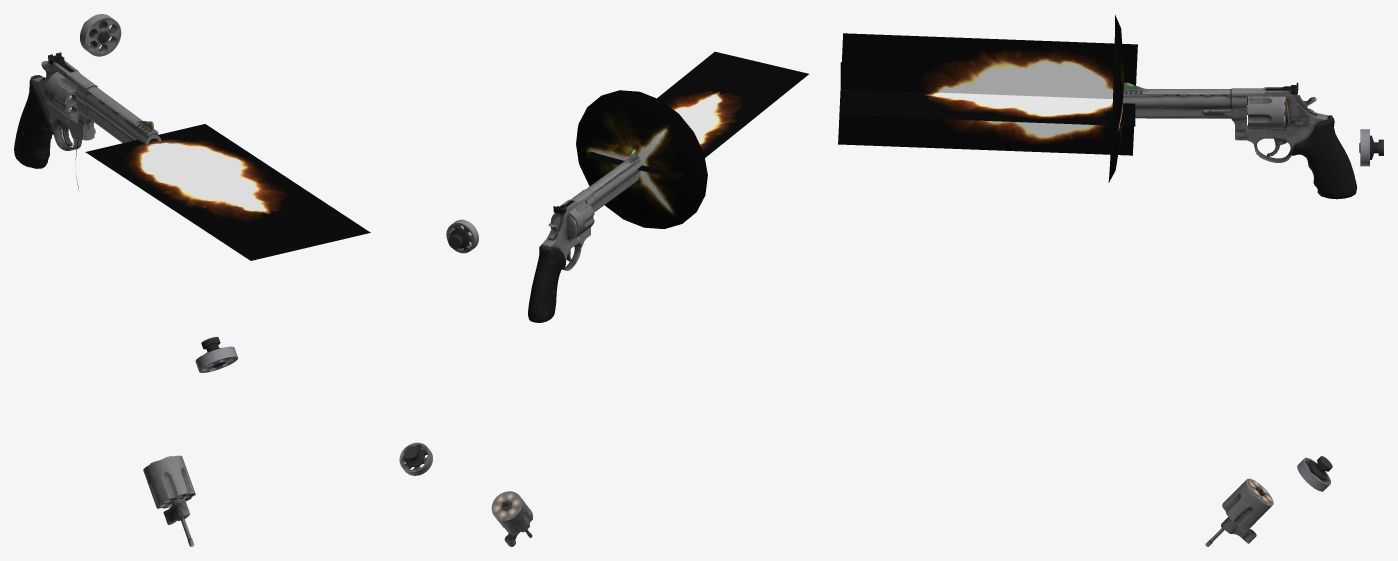
File: Magnum_0.glb
3 views of the same model, side by side, from view 1: azimuth 30°, elevation 25°; view 2: azimuth 150°, elevation 25°; view 3: azimuth 270°, elevation 25° (orthographic). The views are drawn at different scales.
Visible parts, largest first — view 1: MuzzleFlash, Magnum_upd, Magnum_upd_Flippy (×2), Magnum_upd_Speedloader (×2); view 2: MuzzleFlash, Magnum_upd, Magnum_upd_Speedloader (×2), Magnum_upd_Flippy; view 3: MuzzleFlash, Magnum_upd, Magnum_upd_Flippy (×2), Magnum_upd_Speedloader.
Boxes of the visible parts, x1,y1,x2,y2 form: MuzzleFlash: (75,124,370,260); Magnum_upd: (14,52,161,168); Magnum_upd_Flippy (×2): (48,71,195,546); Magnum_upd_Speedloader (×2): (83,14,237,372); MuzzleFlash: (576,51,808,228); Magnum_upd: (528,149,642,322); Magnum_upd_Speedloader (×2): (399,223,478,475); Magnum_upd_Flippy: (491,491,533,546); MuzzleFlash: (838,15,1137,182); Magnum_upd: (1123,82,1357,199); Magnum_upd_Flippy (×2): (1203,96,1283,546); Magnum_upd_Speedloader: (1297,456,1332,491).
Bounding box in the file's own units: 0.3261 × 0.6242 × 0.6333.
Materials: 2 (2 with a texture image).
